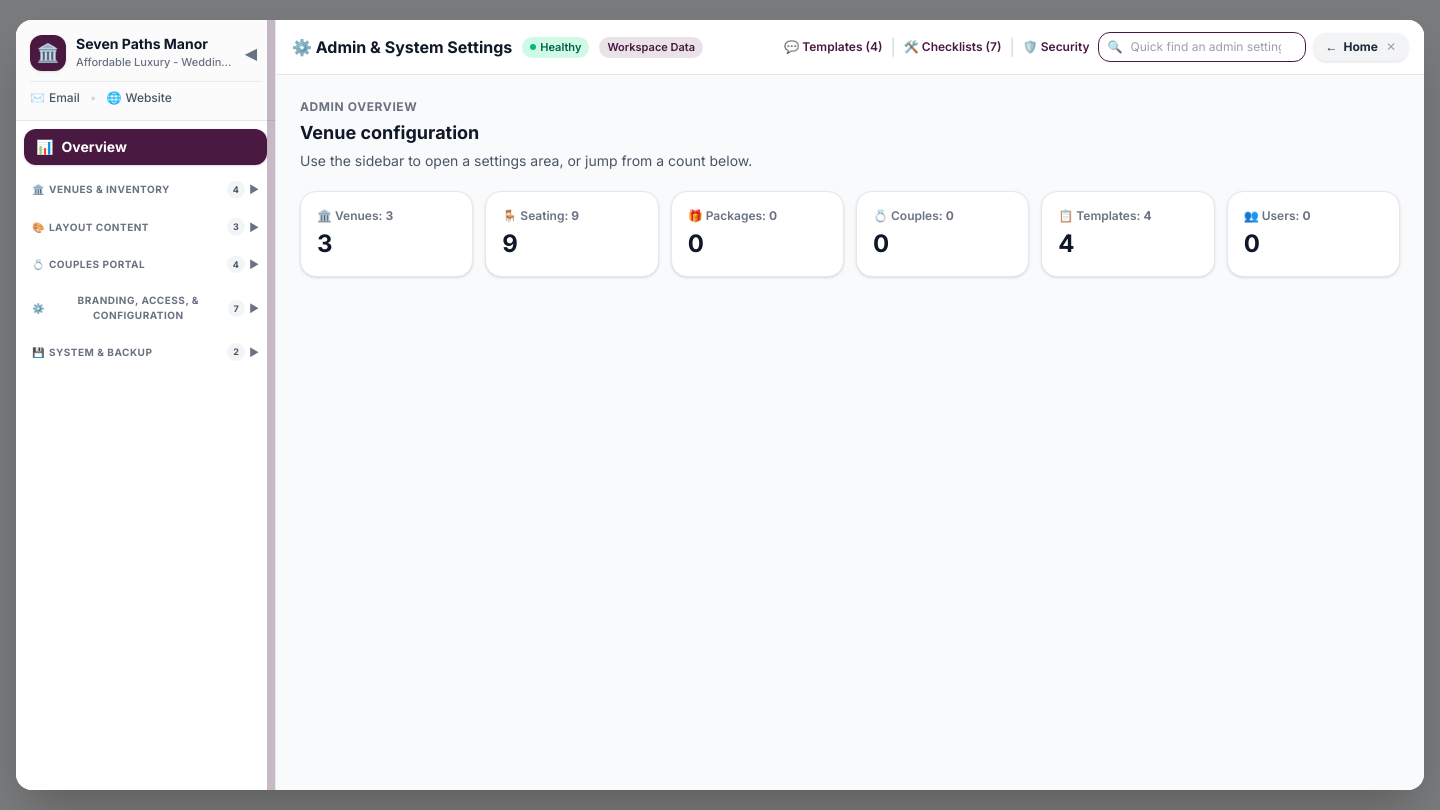
Test: AdminPanel new System Settings modules (#147) › switches to Communication Templates section when clicked in diagnostic banner
Click the button "💬 Templates (4)".
click(833, 47)  # box [784,39,882,55]
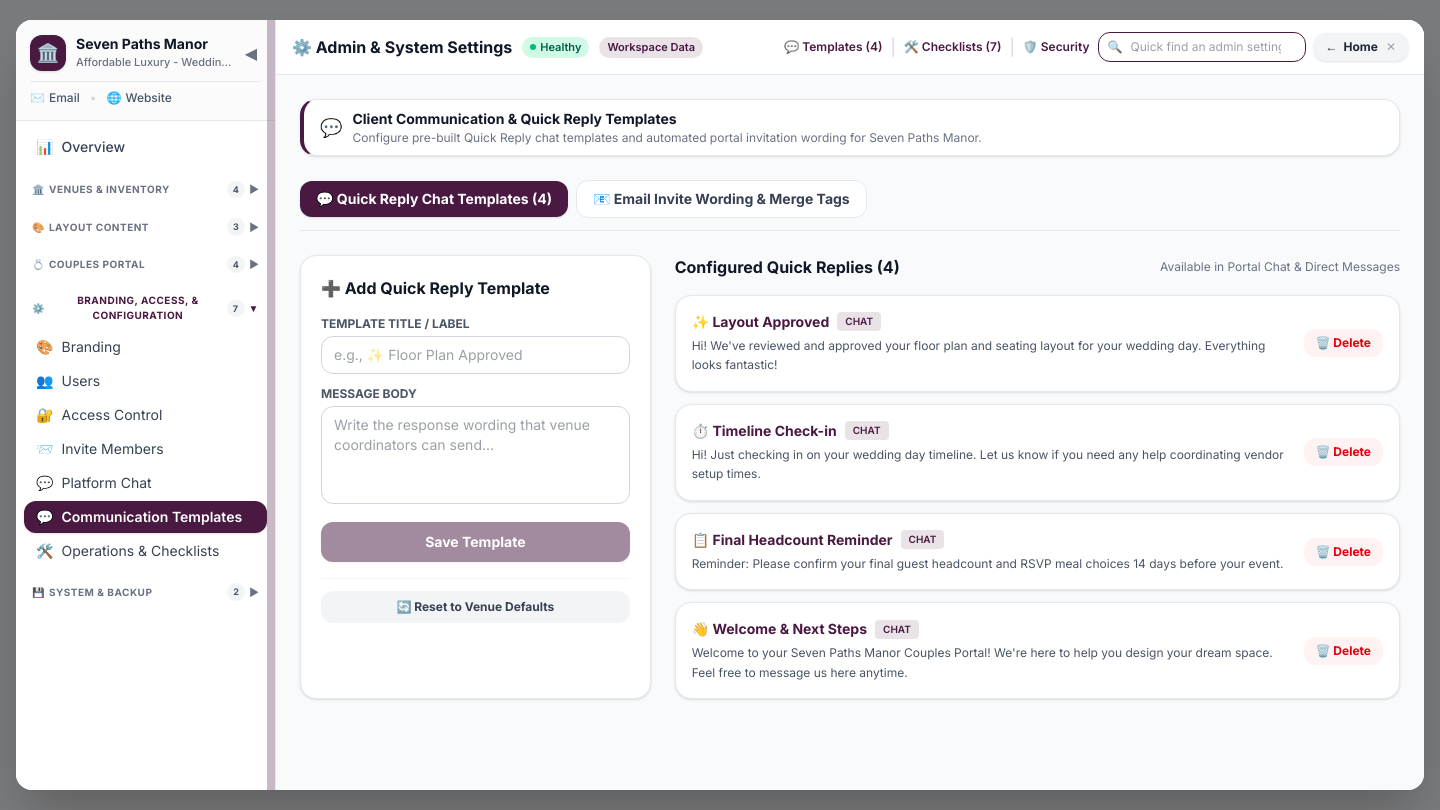
Expected: the heading "Client Communication & Quick Reply Templates" is shown, [352,110,677,127]
Expected: the text "✨ Layout Approved" is shown, [692,312,829,332]
